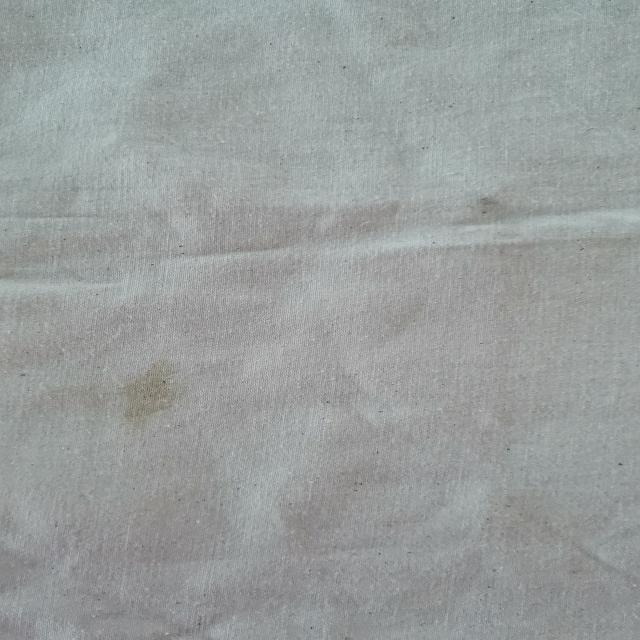taaaches: (86, 362, 216, 436), (462, 184, 544, 243)
